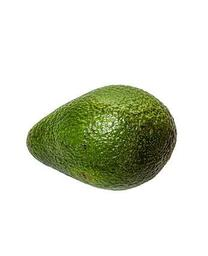avocado: (25, 84, 178, 190)
